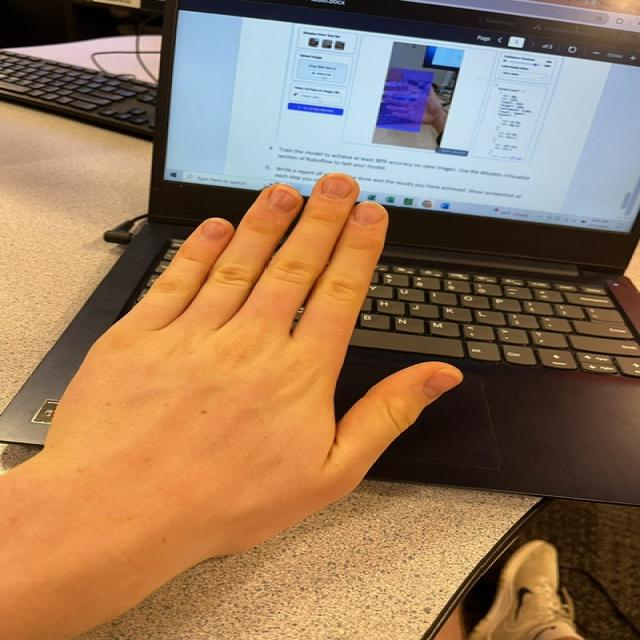keyboard-with-hands: (0, 222, 640, 505)
